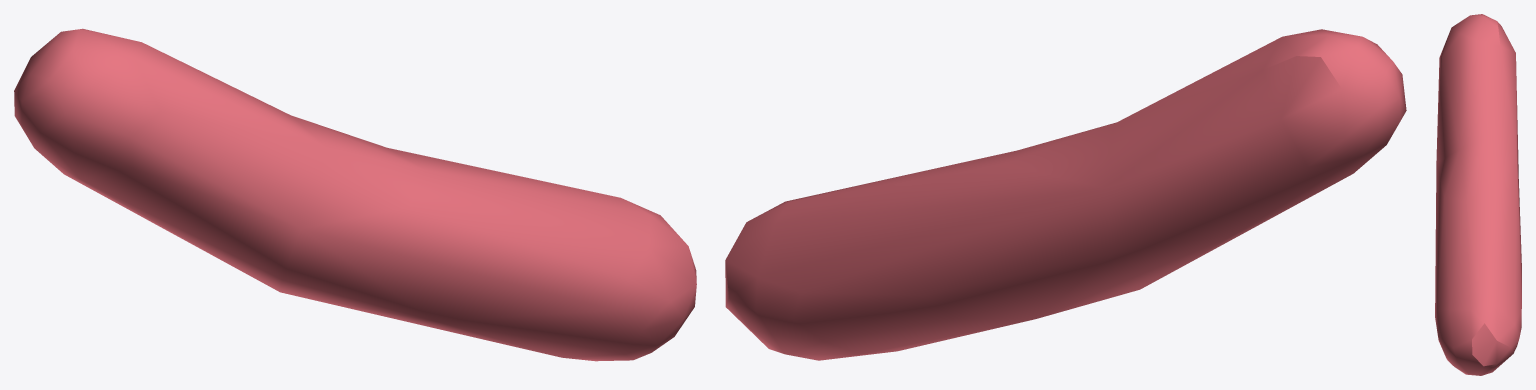
Rendered from fma8662_fj6098.glb.
3 views of the same model, side by side, from view 1: azimuth 30°, elevation 25°; view 2: azimuth 150°, elevation 25°; view 3: azimuth 270°, elevation 25° (orthographic). The views are drawn at different scales.
Visible parts, largest first — view 1: FMA8662_FJ6098; view 2: FMA8662_FJ6098; view 3: FMA8662_FJ6098.
Part boxes in pixels (<box>): FMA8662_FJ6098: <box>14,28,696,361</box>; FMA8662_FJ6098: <box>725,29,1406,360</box>; FMA8662_FJ6098: <box>1435,14,1521,375</box>.
Bounding box in the file's own units: 0.0116 × 0.0075 × 0.00261.
